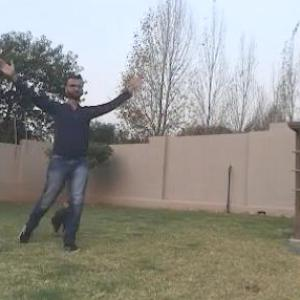takeoff: (0, 76, 125, 254)
